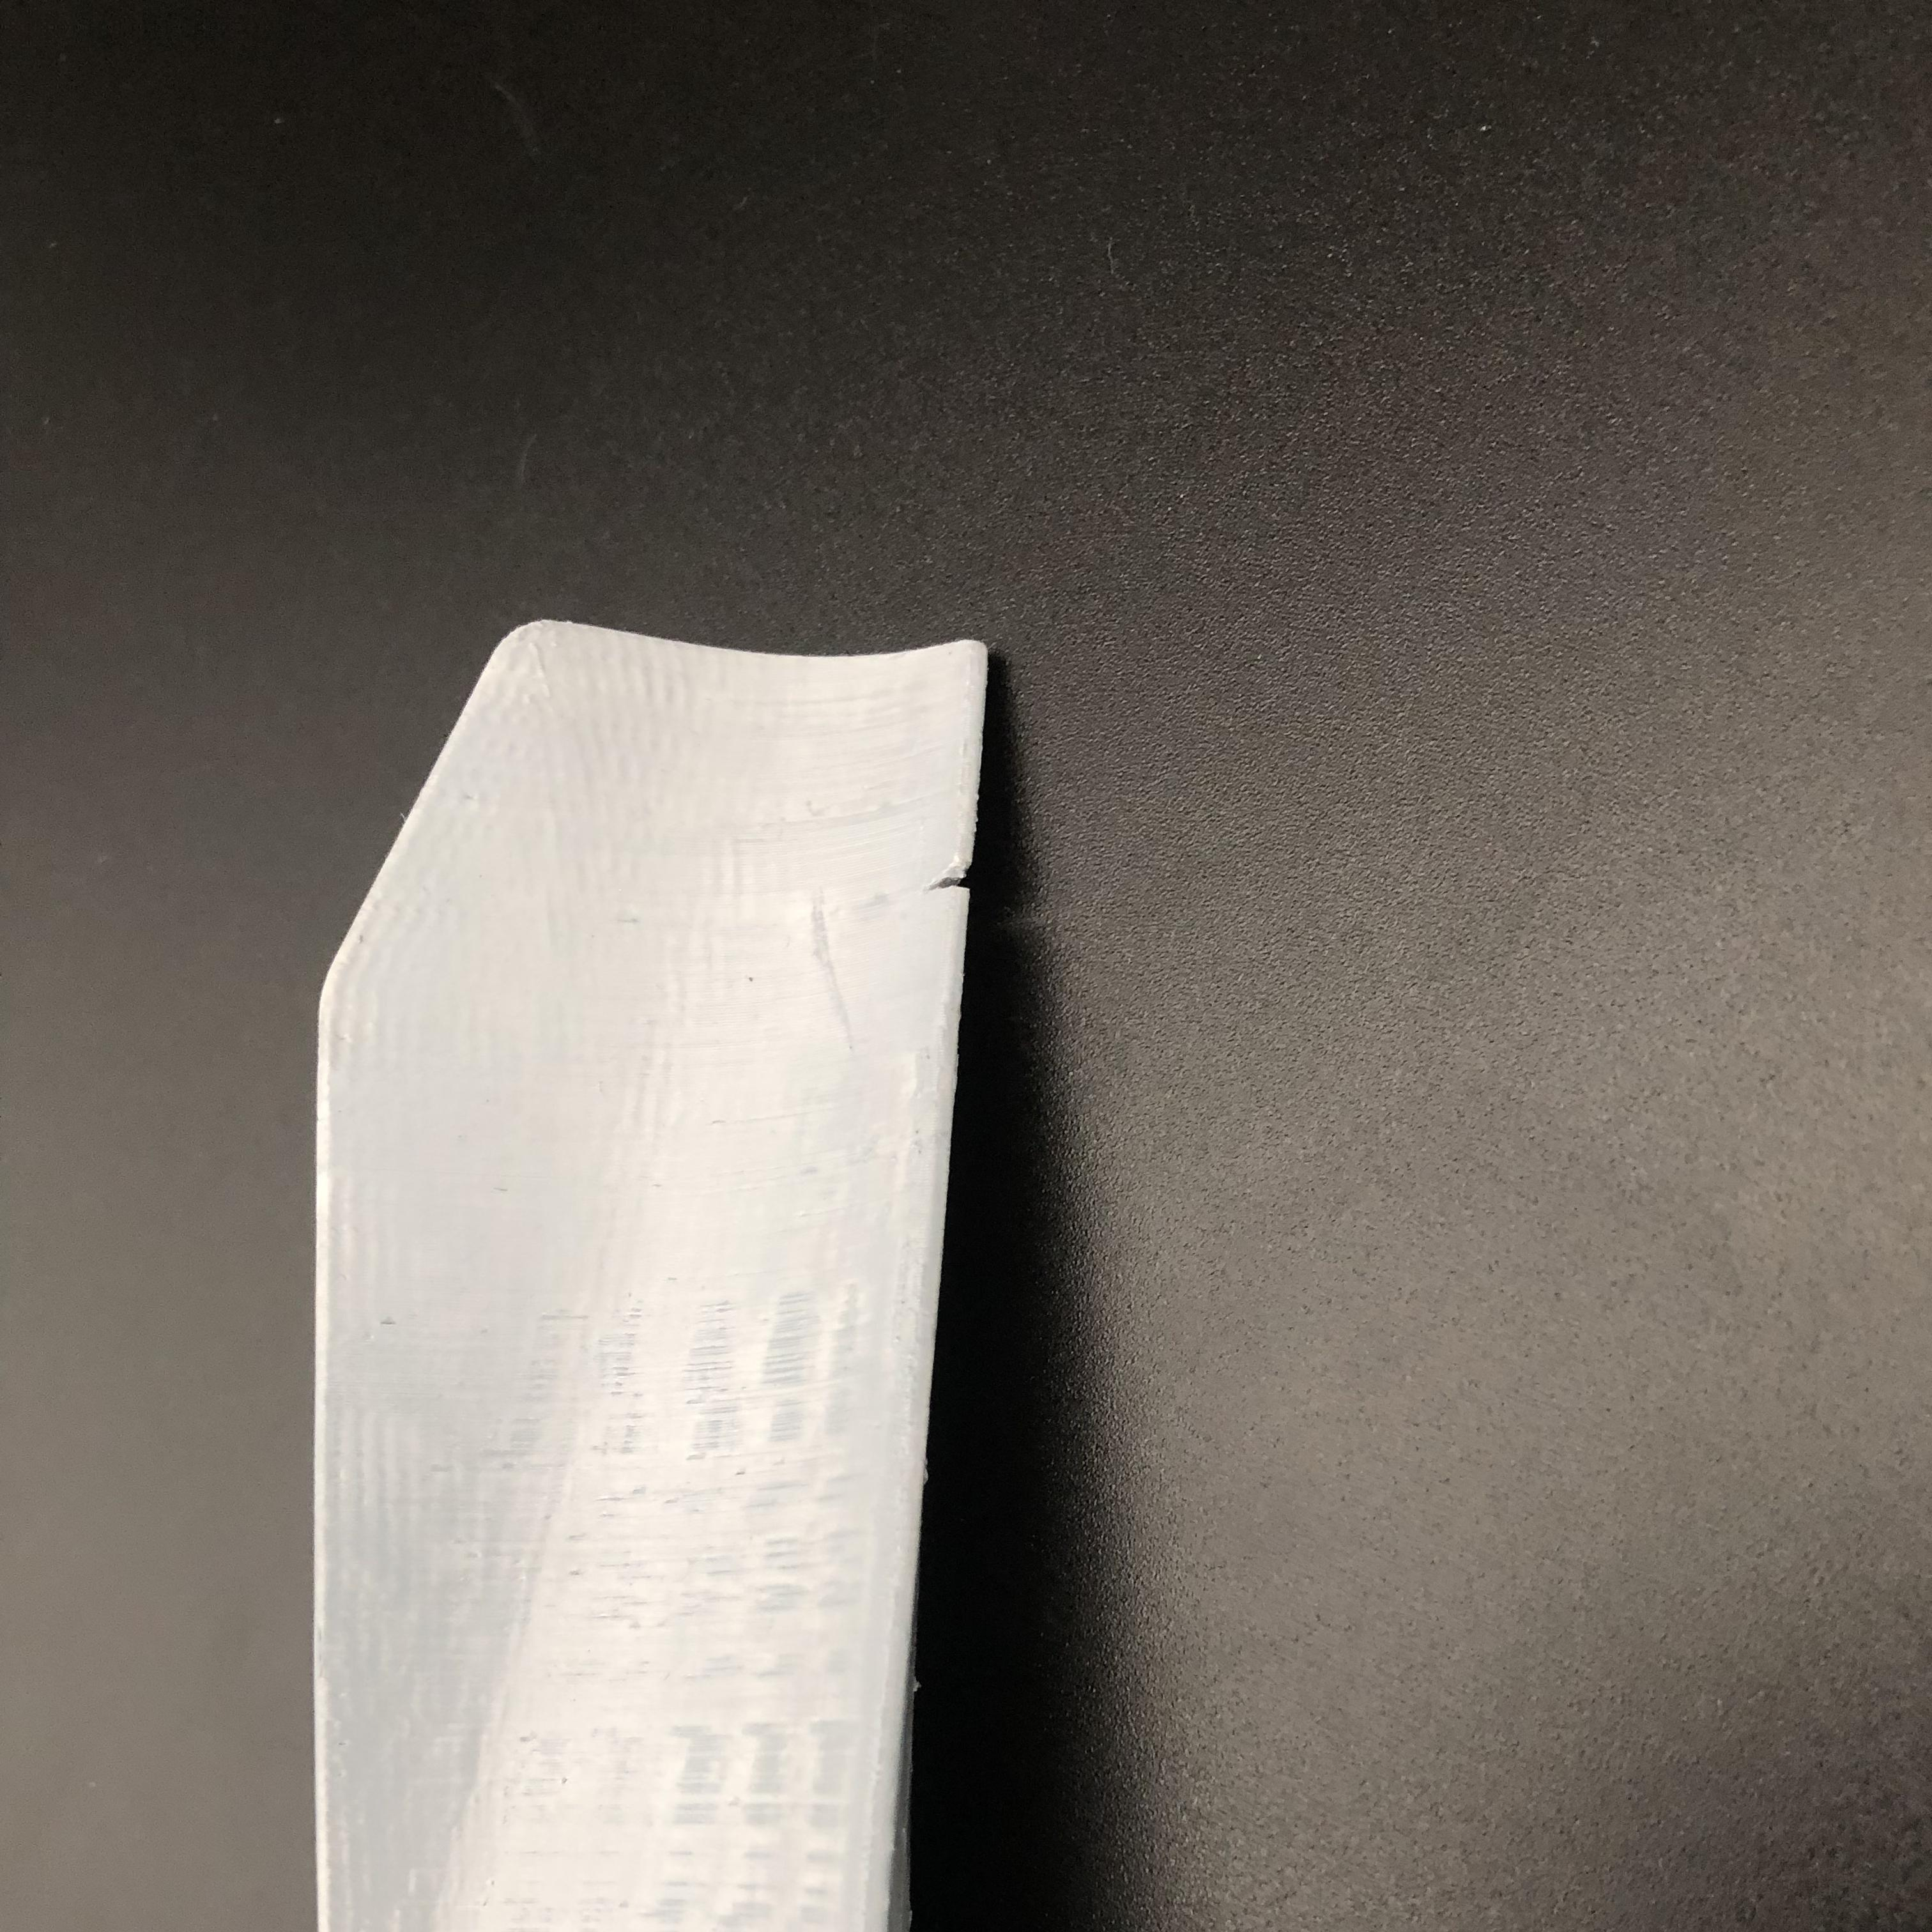groove: (920, 858, 968, 906)
